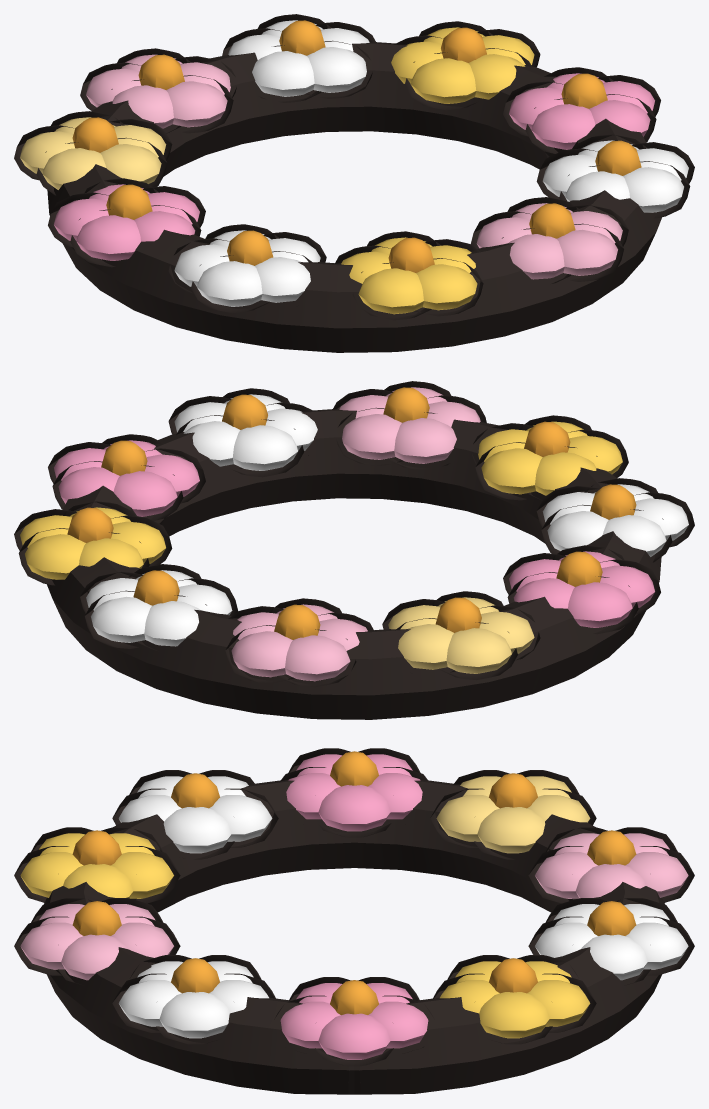
Rendered from hat_flowers.fbx.
3 renders of one model, top to bottom at view 1: azimuth 30°, elevation 25°; view 2: azimuth 150°, elevation 25°; view 3: azimuth 270°, elevation 25°, orthographic. The views are drawn at different scales.
Visible parts, largest first — view 1: hat_flowers_Outline, hat_flowers_C_FFFFFF, hat_flowers_C_FFD65C, hat_flowers_C_F7B8CF, hat_flowers_C_F5A93A, hat_flowers_C_F6A0C4, hat_flowers_C_FFE08A; view 2: hat_flowers_Outline, hat_flowers_C_FFFFFF, hat_flowers_C_F7B8CF, hat_flowers_C_F5A93A, hat_flowers_C_FFD65C, hat_flowers_C_F6A0C4, hat_flowers_C_FFE08A; view 3: hat_flowers_Outline, hat_flowers_C_FFFFFF, hat_flowers_C_F6A0C4, hat_flowers_C_FFD65C, hat_flowers_C_F5A93A, hat_flowers_C_F7B8CF, hat_flowers_C_FFE08A.
Part boxes in pixels (x1,y1,x2,y2): hat_flowers_Outline: (14,14,694,352); hat_flowers_C_FFFFFF: (174,20,688,306); hat_flowers_C_FFD65C: (341,27,534,314); hat_flowers_C_F7B8CF: (86,54,622,279); hat_flowers_C_F5A93A: (72,20,641,272); hat_flowers_C_F6A0C4: (54,73,654,260); hat_flowers_C_FFE08A: (20,117,166,189); hat_flowers_Outline: (14,381,694,719); hat_flowers_C_FFFFFF: (86,394,688,646); hat_flowers_C_F7B8CF: (231,387,480,681); hat_flowers_C_F5A93A: (67,387,636,639); hat_flowers_C_FFD65C: (20,421,622,579); hat_flowers_C_F6A0C4: (54,440,654,627); hat_flowers_C_FFE08A: (388,597,534,673); hat_flowers_Outline: (14,748,694,1094); hat_flowers_C_FFFFFF: (118,776,688,1038); hat_flowers_C_F6A0C4: (280,754,428,1059); hat_flowers_C_FFD65C: (20,833,590,1038); hat_flowers_C_F5A93A: (72,751,636,1014); hat_flowers_C_F7B8CF: (20,833,688,980); hat_flowers_C_FFE08A: (436,776,590,853).
Size of the model in its own units: 0.6205 by 0.1104 by 0.6043.
